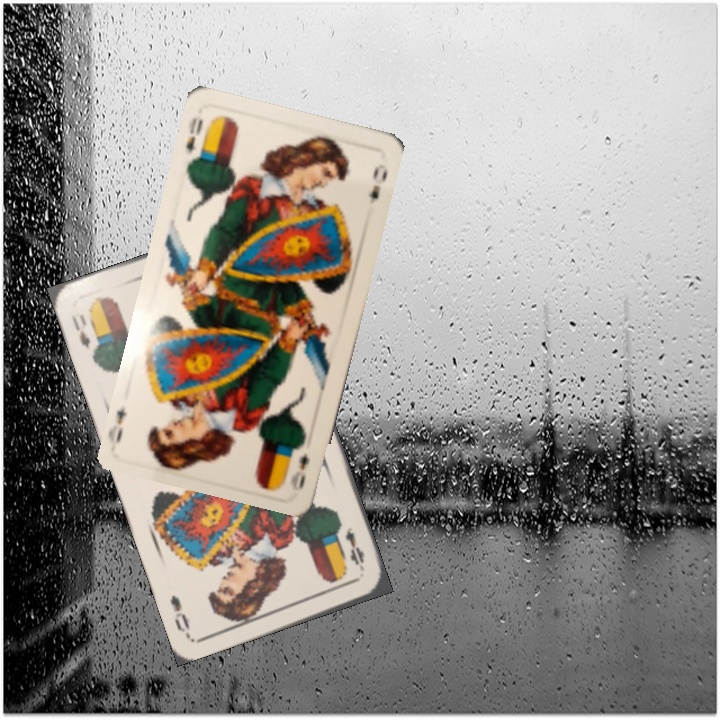EO: (182, 113, 214, 167), (341, 523, 368, 574), (67, 310, 93, 353), (287, 449, 312, 493)
